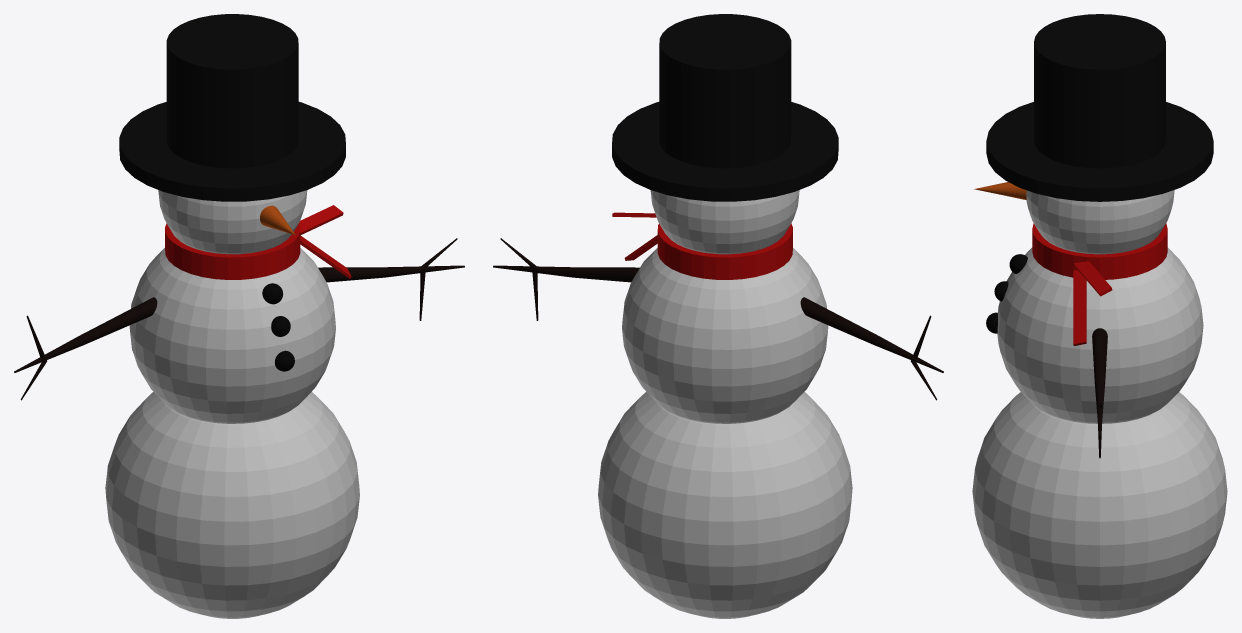
The model's file is SNOWMAN.dae.
The picture shows the model from 3 angles, left to right: view 1: azimuth 30°, elevation 25°; view 2: azimuth 150°, elevation 25°; view 3: azimuth 270°, elevation 25°; orthographic projection.
Parts seen in each view (by area): view 1: Sphere, Cylinder, Sphere_001, Sphere_002, Cylinder_007, Cylinder_005, Sphere_003; view 2: Sphere, Cylinder, Sphere_001, Sphere_002, Cylinder_007, Cylinder_005; view 3: Sphere, Cylinder, Sphere_001, Sphere_002, Cylinder_007, Cylinder_005, Sphere_003, Cone.
Part boxes in pixels (x1,y1,x2,y2): Sphere: (105,392,359,618); Cylinder: (119,14,345,201); Sphere_001: (129,248,335,423); Sphere_002: (158,190,307,254); Cylinder_007: (165,205,351,279); Cylinder_005: (14,238,464,400); Sphere_003: (262,283,294,371); Sphere: (598,392,852,618); Cylinder: (612,14,838,201); Sphere_001: (622,248,828,423); Sphere_002: (650,190,799,254); Cylinder_007: (612,212,792,279); Cylinder_005: (493,238,943,400); Sphere: (972,392,1227,618); Cylinder: (986,14,1213,201); Sphere_001: (997,247,1203,423); Sphere_002: (1026,190,1174,254); Cylinder_007: (1032,223,1167,345); Cylinder_005: (1092,328,1107,458); Sphere_003: (986,254,1027,333); Cone: (974,182,1026,199).
Bounding box in the file's own units: 0.9841 × 0.4829 × 1.18.
